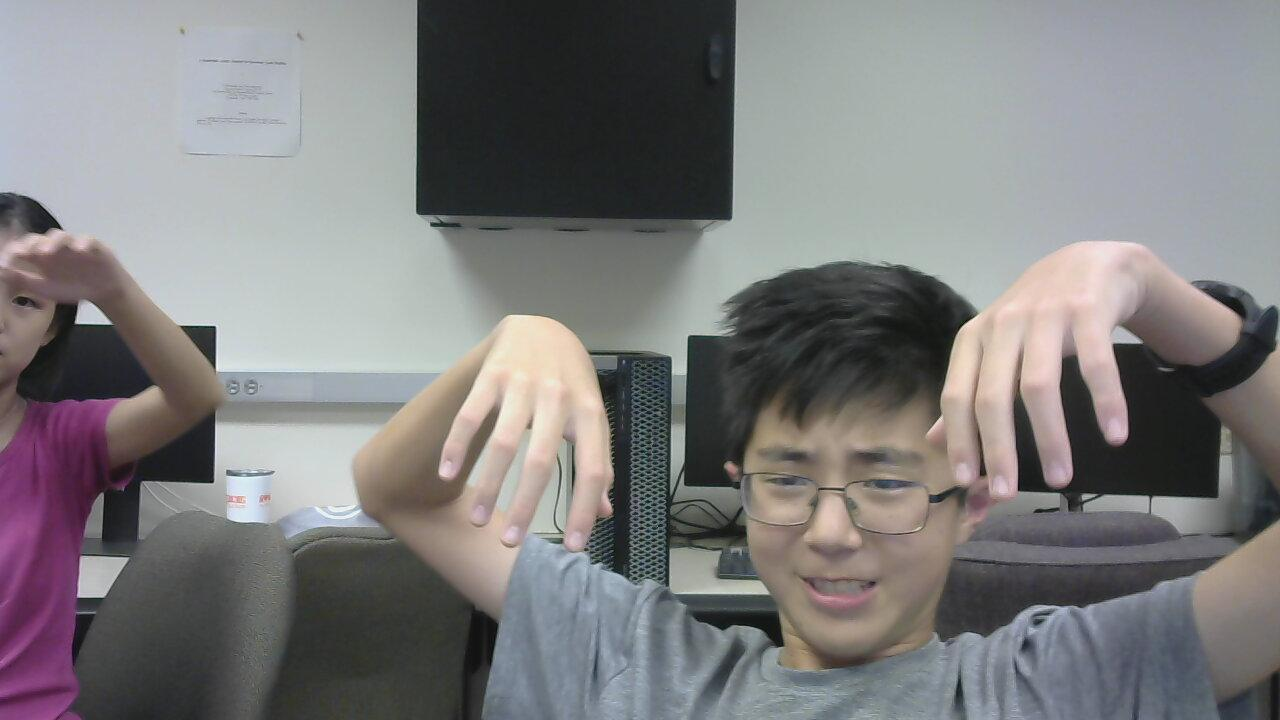hands: (925, 237, 1151, 494), (425, 302, 642, 545), (0, 227, 147, 321)
